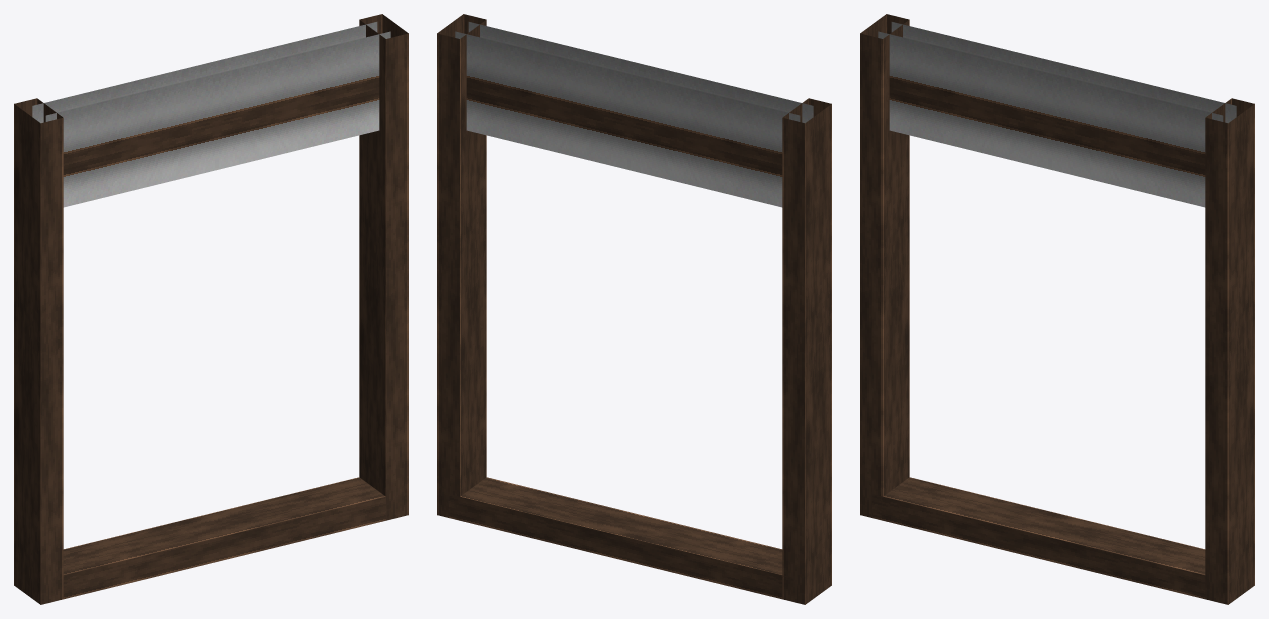
File: house_passage_3x4.glb
The picture shows the model from 3 angles, left to right: view 1: azimuth 30°, elevation 25°; view 2: azimuth 150°, elevation 25°; view 3: azimuth 330°, elevation 25°; orthographic projection.
Parts seen in each view (by area): view 1: house_passage_3x4; view 2: house_passage_3x4; view 3: house_passage_3x4.
Part boxes in pixels (x1,y1,x2,y2): house_passage_3x4: (14,14,408,604); house_passage_3x4: (437,14,831,604); house_passage_3x4: (860,14,1254,604).
Bounding box in the file's own units: 3.2 × 4 × 0.4.
Materials: 2 (2 with a texture image).
